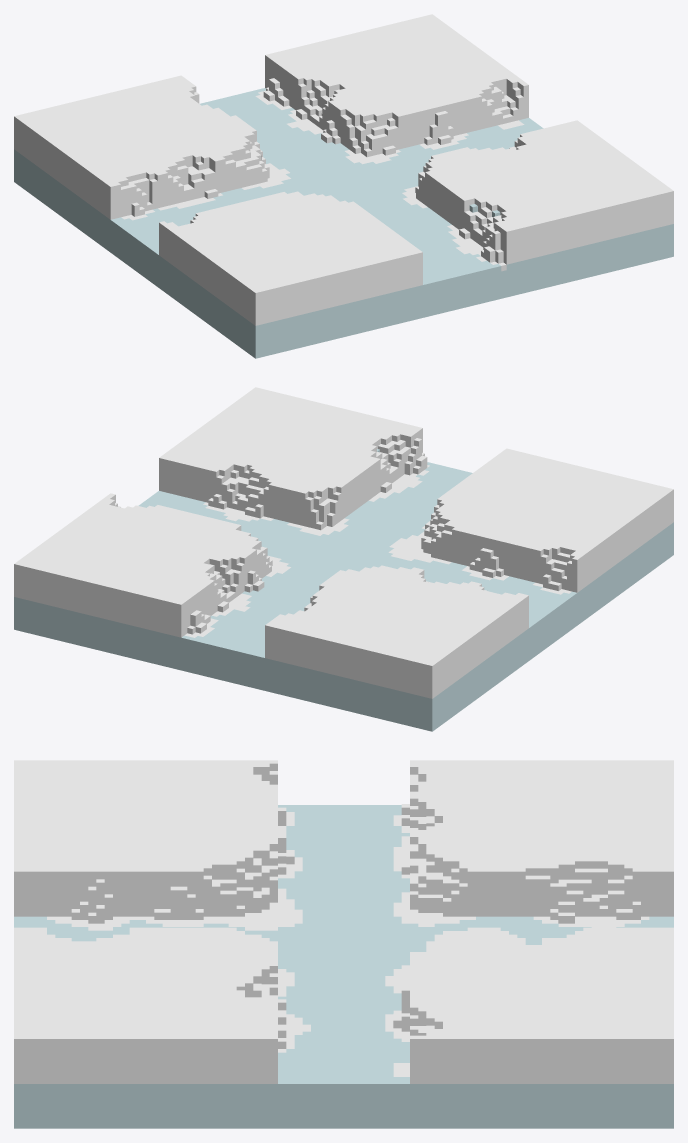
File: Crossroad Path Polar Tile 1.obj
The picture shows the model from 3 angles, top to bottom: view 1: azimuth 30°, elevation 25°; view 2: azimuth 150°, elevation 25°; view 3: azimuth 270°, elevation 25°; orthographic projection. The views are drawn at different scales.
Bounding box in the file's own units: 8 × 1.2 × 8.
Materials: 1 (1 with a texture image).
